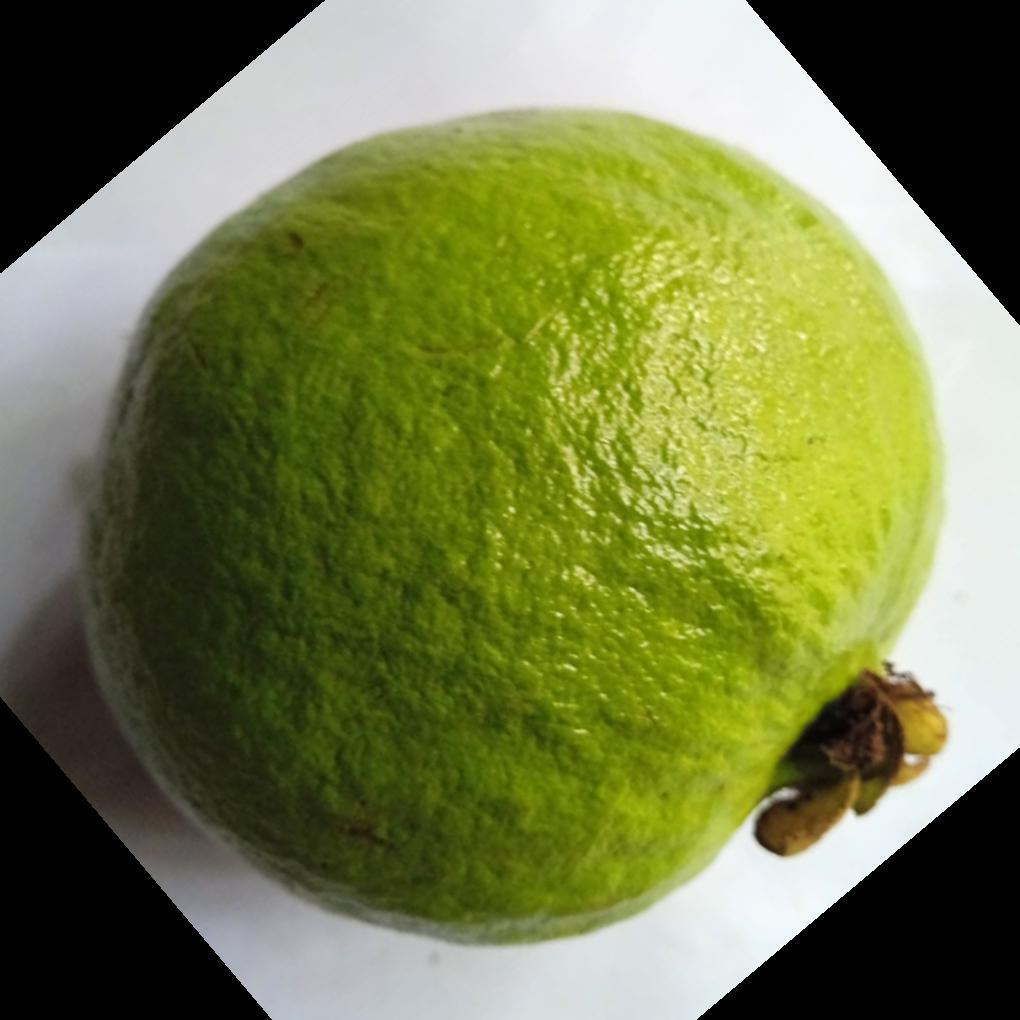FreshGuava: (78, 108, 949, 950)
